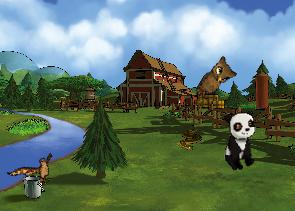eagle: (6, 141, 65, 199)
owl: (193, 53, 241, 107)
panda: (223, 110, 257, 171)
